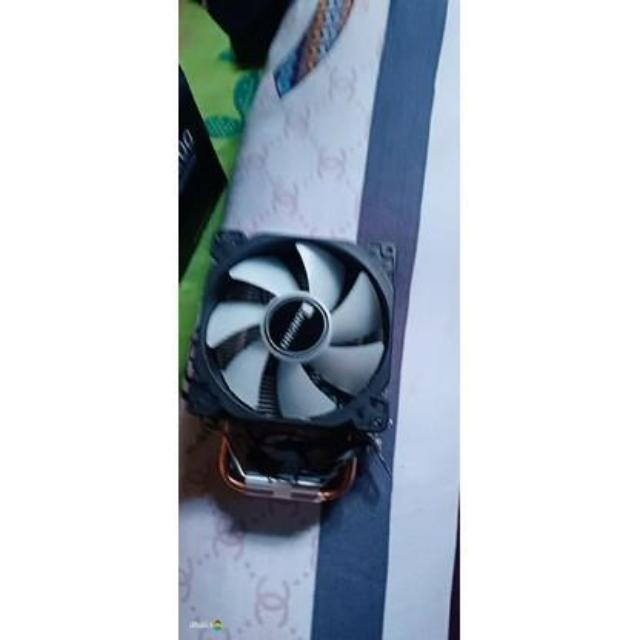CPU_Fan: (188, 226, 402, 508)
